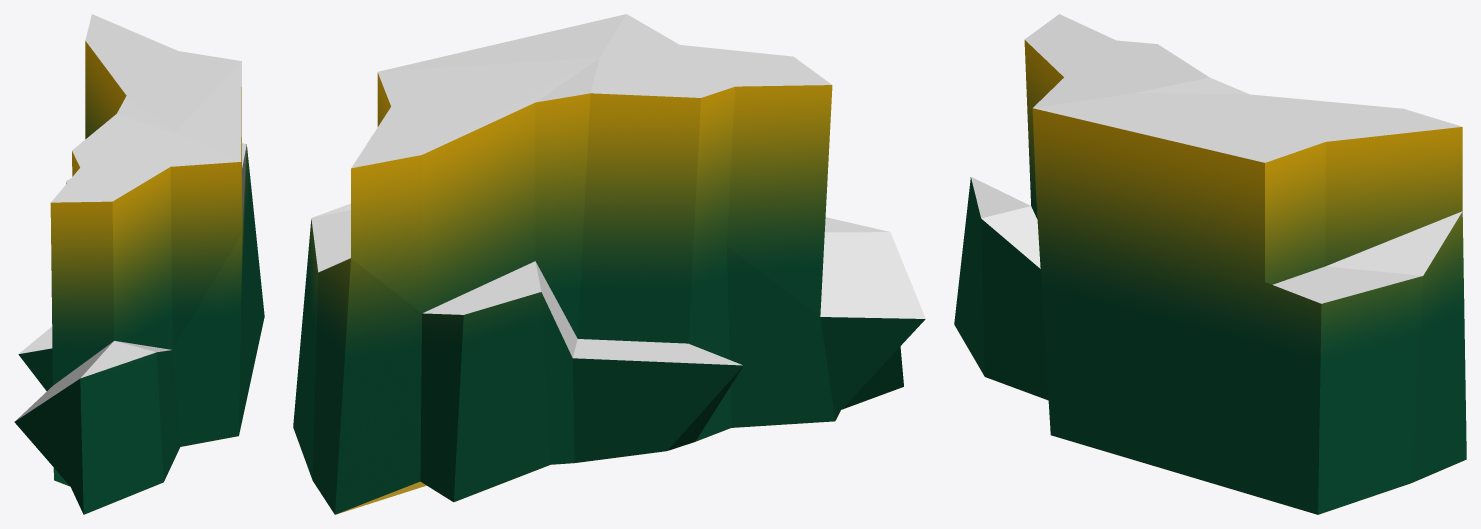
File: MOD_Island4.fbx
3 renders of one model, left to right at view 1: azimuth 30°, elevation 25°; view 2: azimuth 150°, elevation 25°; view 3: azimuth 270°, elevation 25°, orthographic. The views are drawn at different scales.
Visible parts, largest first — view 1: MOD_Island4; view 2: MOD_Island4; view 3: MOD_Island4.
Boxes of the visible parts, x1,y1,x2,y2 form: MOD_Island4: (14,14,264,514); MOD_Island4: (293,14,925,514); MOD_Island4: (954,14,1466,514).
Size of the model in its own units: 3.68 by 2.62 by 3.71.
2 materials, 1 textured.
